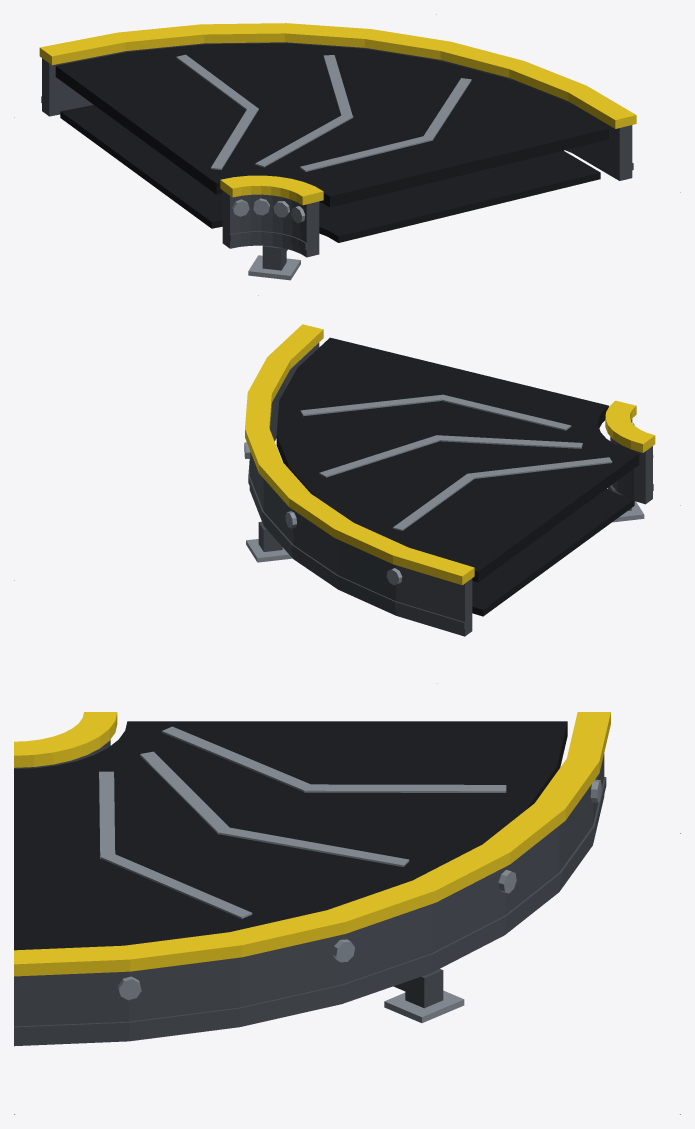
Rendered from convoyeur_virage_t1.glb.
The picture shows the model from 3 angles, top to bottom: view 1: azimuth 30°, elevation 25°; view 2: azimuth 150°, elevation 25°; view 3: azimuth 270°, elevation 25°; orthographic projection. The views are drawn at different scales.
Visible parts, largest first — view 1: tapis_porteur.024, tapis_retour.024, rive_1.024, bande_acier.048, longeron_1.024, longeron_-1.024, rive_-1.024, pieces_acier.054, nervure_-1.012, pieces_acier_sombre.022; view 2: tapis_porteur.024, longeron_1.024, rive_1.024, tapis_retour.024, bande_acier.048, nervure_1.012, rive_-1.024, longeron_-1.024, pieces_acier.054; view 3: tapis_porteur.024, longeron_1.024, rive_1.024, bande_acier.048, nervure_1.012, rive_-1.024, pieces_acier.054, pieces_acier_sombre.022.
Part boxes in pixels (x1,y1,x2,y2): tapis_porteur.024: (55,43,608,207); tapis_retour.024: (60,105,600,242); rive_1.024: (39,23,636,128); bande_acier.048: (176,54,471,171); longeron_1.024: (42,42,632,180); longeron_-1.024: (222,190,319,257); rive_-1.024: (220,175,323,205); pieces_acier.054: (232,198,305,280); nervure_-1.012: (230,231,307,249); pieces_acier_sombre.022: (262,245,287,270); tapis_porteur.024: (276,337,639,582); longeron_1.024: (249,342,472,636); rive_1.024: (245,324,474,585); tapis_retour.024: (472,488,634,616); bande_acier.048: (300,394,612,530); nervure_1.012: (248,461,465,629); rive_-1.024: (605,400,655,452); longeron_-1.024: (610,419,652,504); pieces_acier.054: (244,423,653,585); tapis_porteur.024: (14,721,567,950); longeron_1.024: (14,753,604,1046); rive_1.024: (14,712,610,976); bande_acier.048: (99,726,506,918); nervure_1.012: (14,777,606,1036); rive_-1.024: (14,712,117,767); pieces_acier.054: (118,779,601,1022); pieces_acier_sombre.022: (393,969,443,1008).
Size of the model in its own units: 1 by 0.2 by 1.
